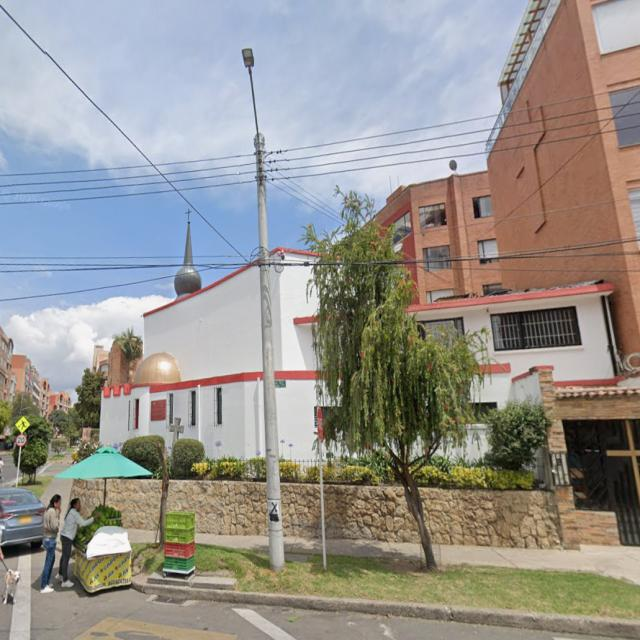fachada: (488, 0, 639, 546), (408, 281, 639, 420), (375, 172, 502, 304), (0, 327, 13, 401), (48, 392, 71, 415), (92, 346, 109, 375), (40, 379, 50, 417)
poste: (249, 68, 284, 571), (319, 439, 327, 571), (15, 447, 22, 486)
